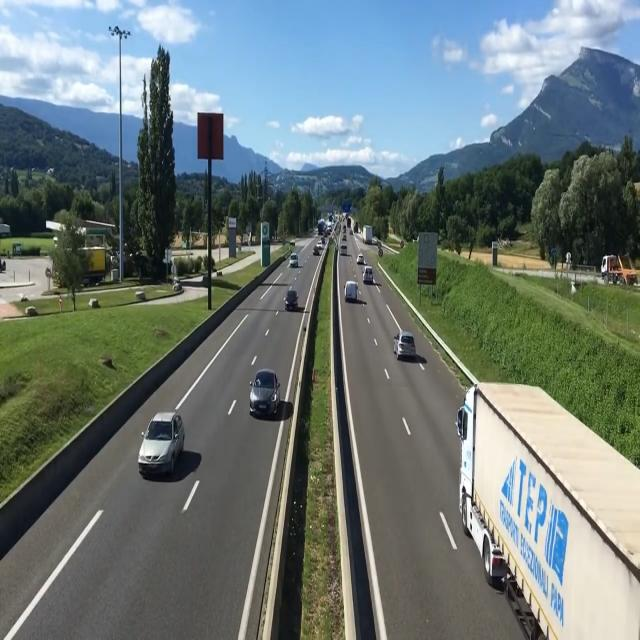car: (137, 410, 189, 482), (250, 369, 282, 422), (394, 330, 421, 368), (284, 280, 304, 313), (286, 243, 302, 272), (364, 221, 379, 250), (345, 276, 359, 305), (364, 267, 376, 286), (338, 242, 349, 260)
truck: (447, 366, 628, 640)
